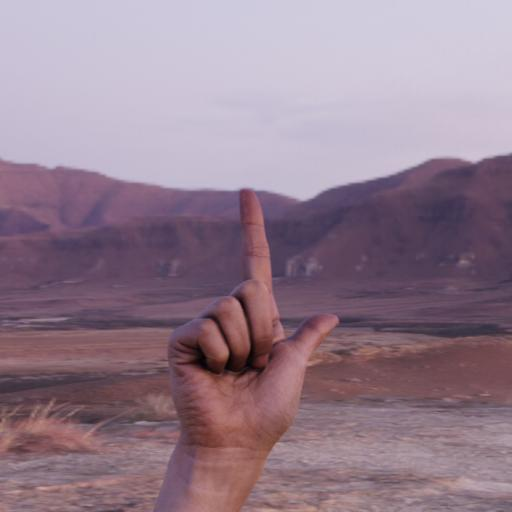L: (136, 151, 368, 465)
